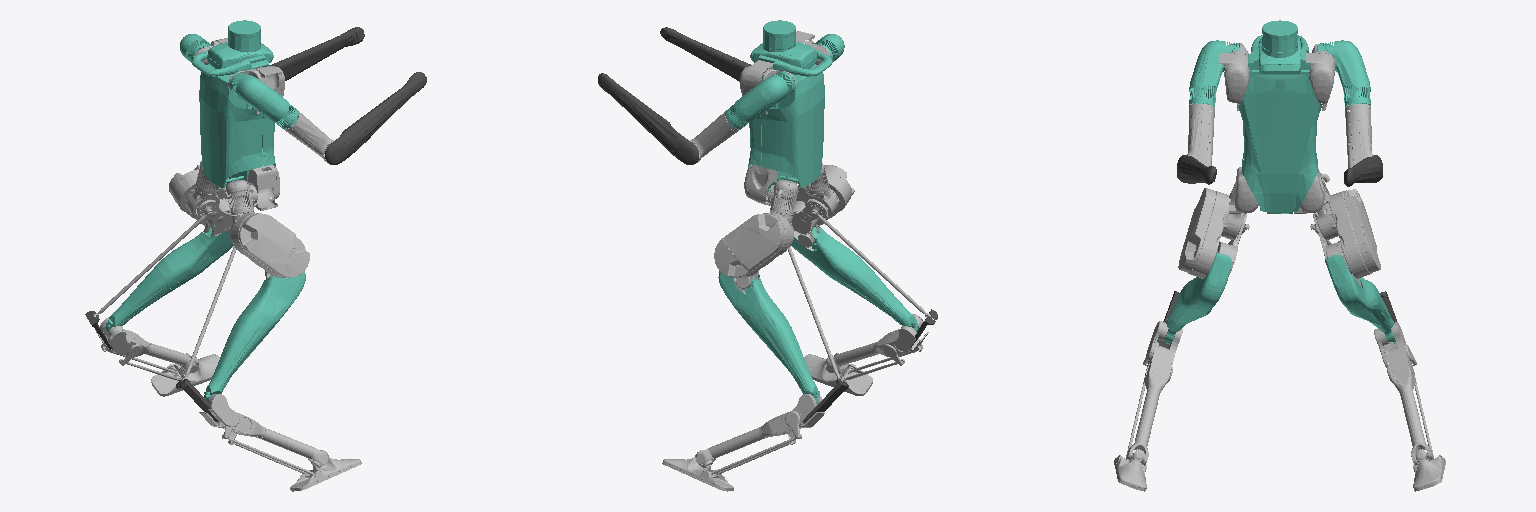
--- Render facts (derived) ---
3 views of the same robot in one strip: view 1: azimuth 30°, elevation 25°; view 2: azimuth 150°, elevation 25°; view 3: azimuth 270°, elevation 25° (orthographic).
Model digit-v3-springfixed with 43 links and 42 joints (38 revolute, 4 fixed), rooted at torso, posed every joint at zero.
Visible links, largest first — view 1: torso, right_shin, left_shin, right_hip_pitch, right_elbow, right_tarsus, right_shoulder_pitch, left_tarsus, left_elbow, left_hip_pitch, left_toe_roll, right_toe_roll (+5 smaller); view 2: torso, left_shin, right_shin, left_hip_pitch, left_elbow, left_tarsus, left_shoulder_pitch, right_tarsus, right_elbow, right_hip_pitch, right_toe_roll, left_toe_roll (+6 smaller); view 3: torso, left_hip_pitch, right_hip_pitch, left_tarsus, right_tarsus, right_shin, left_shin, left_shoulder_pitch, right_shoulder_pitch, left_shoulder_yaw, right_shoulder_yaw, right_toe_roll (+4 smaller).
Boxes of the visible links, left/top/right/bottom form: torso: left=191, top=20, right=284, bottom=210; right_shin: left=204, top=271, right=305, bottom=403; left_shin: left=106, top=225, right=233, bottom=332; right_hip_pitch: left=232, top=213, right=309, bottom=277; right_elbow: left=325, top=72, right=426, bottom=164; right_tarsus: left=199, top=394, right=327, bottom=463; right_shoulder_pitch: left=229, top=73, right=298, bottom=128; left_tarsus: left=96, top=317, right=197, bottom=372; left_elbow: left=271, top=27, right=364, bottom=80; left_hip_pitch: left=169, top=165, right=231, bottom=230; left_toe_roll: left=151, top=354, right=219, bottom=396; right_toe_roll: left=290, top=450, right=361, bottom=491; torso: left=740, top=20, right=832, bottom=205; left_shin: left=718, top=271, right=819, bottom=404; right_shin: left=791, top=226, right=918, bottom=331; left_hip_pitch: left=714, top=213, right=791, bottom=277; left_elbow: left=598, top=73, right=698, bottom=164; left_tarsus: left=696, top=394, right=824, bottom=463; left_shoulder_pitch: left=725, top=72, right=794, bottom=128; right_tarsus: left=826, top=314, right=928, bottom=372; right_elbow: left=660, top=27, right=751, bottom=81; right_hip_pitch: left=793, top=165, right=854, bottom=230; right_toe_roll: left=804, top=354, right=872, bottom=395; left_toe_roll: left=662, top=450, right=733, bottom=491; torso: left=1219, top=20, right=1335, bottom=213; left_hip_pitch: left=1313, top=189, right=1380, bottom=278; right_hip_pitch: left=1178, top=188, right=1246, bottom=278; left_tarsus: left=1374, top=322, right=1433, bottom=464; right_tarsus: left=1126, top=321, right=1182, bottom=464; right_shin: left=1164, top=253, right=1231, bottom=344; left_shin: left=1325, top=255, right=1395, bottom=343; left_shoulder_pitch: left=1318, top=40, right=1370, bottom=107; right_shoulder_pitch: left=1189, top=40, right=1239, bottom=107; left_shoulder_yaw: left=1345, top=104, right=1373, bottom=167; right_shoulder_yaw: left=1187, top=104, right=1214, bottom=166; right_toe_roll: left=1114, top=449, right=1146, bottom=491.
Size in the robot's own frame: 0.9353 by 0.9376 by 1.4 metres.
Meshes: 20 distinct files referenced, 41 mesh visuals loaded (20 binary STL).

The robot description file, URDF, robot "digit-v3-springfixed":
<?xml version="1.0" encoding="utf-8"?>
<robot name="digit-v3-springfixed">
  <link name = "torso">
    <inertial>
      <origin rpy="0 0 0" xyz="0.001636612541 0.0002001180789 0.2593064529"/>
      <mass value="15.028392"/>
      <inertia ixx="0.3759052548" ixy="-8.776732849e-05" ixz="0.008498611229" iyy="0.3441935" iyz="6.621611757e-05" izz="0.09873232746"/>
    </inertial>
    <visual>
      <origin rpy="0 0 0" xyz="0 0 0"/>
      <geometry>
        <mesh filename="meshes/torso-v3/torso.stl"/>
      </geometry>
      <material name="scarlet">
        <color rgba="0.427 0.784 0.714 1"/>
      </material>
    </visual>
    <visual>
      <origin rpy="0 -1.5707963267948966192313216916398 0" xyz="-0.001 0.091 0"/>
      <geometry>
        <mesh filename="meshes/leg-v3/hip-roll-housing.stl"/>
      </geometry>
      <material name="light_grey">
        <color rgba="0.75 0.75 0.75 1"/>
      </material>
    </visual>
    <visual>
      <origin rpy="-0 -1.5707963267948966192313216916398 0" xyz="-0.001 0.12 0.4"/>
      <geometry>
        <mesh filename="meshes/arm-v3/link-0.stl"/>
      </geometry>
      <material name="light_grey">
        <color rgba="0.75 0.75 0.75 1"/>
      </material>
    </visual>
    <visual>
      <origin rpy="0 -1.5707963267948966192313216916398 0" xyz="-0.001 -0.091 0"/>
      <geometry>
        <mesh filename="meshes/leg-v3/hip-roll-housing.stl"/>
      </geometry>
      <material name="light_grey">
        <color rgba="0.75 0.75 0.75 1"/>
      </material>
    </visual>
    <visual>
      <origin rpy="0 -1.5707963267948966192313216916398 0" xyz="-0.001 -0.12 0.4"/>
      <geometry>
        <mesh filename="meshes/arm-v3/link-0.stl"/>
      </geometry>
      <material name="light_grey">
        <color rgba="0.75 0.75 0.75 1"/>
      </material>
    </visual>
    <collision>
      <origin rpy="0 0 0" xyz="0 0 0"/>
      <geometry>
        <mesh filename="meshes/torso-v3/torso.stl"/>
      </geometry>
    </collision>
    <collision>
      <origin rpy="0 -1.5707963267948966192313216916398 0" xyz="-0.001 0.091 0"/>
      <geometry>
        <mesh filename="meshes/leg-v3/hip-roll-housing.stl"/>
      </geometry>
    </collision>
    <collision>
      <origin rpy="-0.1745   -1.5707963267948966192313216916398         0" xyz="-0.001 0.12 0.4"/>
      <geometry>
        <mesh filename="meshes/arm-v3/link-0.stl"/>
      </geometry>
    </collision>
    <collision>
      <origin rpy="0 -1.5707963267948966192313216916398 0" xyz="-0.001 -0.091 0"/>
      <geometry>
        <mesh filename="meshes/leg-v3/hip-roll-housing.stl"/>
      </geometry>
    </collision>
    <collision>
      <origin rpy="0.1745   -1.5707963267948966192313216916398         0" xyz="-0.001 -0.12 0.4"/>
      <geometry>
        <mesh filename="meshes/arm-v3/link-0.stl"/>
      </geometry>
    </collision>
  </link>

  <!-- left leg -->
  <link name="left_hip_roll">
    <inertial>
      <origin rpy="0 0 0" xyz="-0.001967 0.000244 0.031435"/>
      <mass value="0.915088"/>
      <inertia ixx="0.001017" ixy="-3e-06" ixz="1.3e-05" iyy="0.001148" iyz="-4e-06" izz="0.000766"/>
    </inertial>
    <visual>
      <origin rpy="0 0 0" xyz="0 0 0"/>
      <geometry>
        <mesh filename="meshes/leg-v3/hip-yaw-housing.stl"/>
      </geometry>
      <material name="light_grey">
        <color rgba="0.75 0.75 0.75 1"/>
      </material>
    </visual>
    <collision>
      <origin rpy="0 0 0" xyz="0 0 0"/>
      <geometry>
        <mesh filename="meshes/leg-v3/hip-yaw-housing.stl"/>
      </geometry>
    </collision>
  </link>
  <link name="left_hip_yaw">
    <inertial>
      <origin rpy="0 0 0" xyz="1e-05 -0.001945 0.042033"/>
      <mass value="0.818753"/>
      <inertia ixx="0.001627" ixy="-1e-06" ixz="2e-06" iyy="0.001929" iyz="5.3e-05" izz="0.00077"/>
    </inertial>
    <visual>
      <origin rpy="0 0 0" xyz="0 0 0"/>
      <geometry>
        <mesh filename="meshes/leg-v3/hip-pitch-housing.stl"/>
      </geometry>
      <material name="light_grey">
        <color rgba="0.75 0.75 0.75 1"/>
      </material>
    </visual>
    <collision>
      <origin rpy="0 0 0" xyz="0 0 0"/>
      <geometry>
        <mesh filename="meshes/leg-v3/hip-pitch-housing.stl"/>
      </geometry>
    </collision>
  </link>
  <link name="left_hip_pitch">
    <inertial>
      <origin rpy="0 0 0" xyz="0.060537 0.000521 -0.038857"/>
      <mass value="6.244279"/>
      <inertia ixx="0.011533" ixy="-0.000171" ixz="0.000148" iyy="0.033345" iyz="0.000178" izz="0.033958"/>
    </inertial>
    <visual>
      <origin rpy="0 0 0" xyz="0 0 0"/>
      <geometry>
        <mesh filename="meshes/leg-v3/hip-pitch.stl"/>
      </geometry>
      <material name="scarlet">
        <color rgba="0.75 0.75 0.75 1"/>
      </material>
    </visual>
    <collision>
      <origin rpy="0 0 0" xyz="0 0 0"/>
      <geometry>
        <mesh filename="meshes/leg-v3/hip-pitch.stl"/>
      </geometry>
    </collision>
  </link>

  <!-- left knee close loop -->
  <link name="left_achilles_rod">
    <inertial>
      <origin rpy="0 0 0" xyz="0 0 0"/>
      <mass value="0."/>
      <inertia ixx="0" ixy="0" ixz="0" iyy="0" iyz="0" izz="0"/>
    </inertial>
    <visual>
      <origin rpy="0 0 0" xyz="0 0 0"/>
      <geometry>
        <mesh filename="meshes/leg-v3/achilles-rod.stl"/>
      </geometry>
      <material name="light_grey">
        <color rgba="0.75 0.75 0.75 1"/>
      </material>
    </visual>
    <collision>
      <origin rpy="0 0 0" xyz="0 0 0"/>
      <geometry>
        <mesh filename="meshes/leg-v3/achilles-rod.stl"/>
      </geometry>
    </collision>
  </link>
  <link name="left_ach2">
    <inertial>
      <origin rpy="0 0 0" xyz="0.2506 0 0"/>
      <mass value="0.178148"/>
      <inertia ixx="3e-06" ixy="0" ixz="0" iyy="0.004501" iyz="0" izz="0.004501"/>
    </inertial>
    <visual>
      <origin rpy="0 0 0" xyz="0 0 0"/>
      <geometry>
        <sphere radius = "0.0" />
      </geometry>
    </visual>
    <collision>
      <origin rpy="0 0 0" xyz="0 0 0"/>
      <geometry>
        <sphere radius = "0.0" />
      </geometry>
    </collision>
  </link>

  <link name="left_knee">
    <inertial>
      <origin rpy="0 0 0" xyz="0.045641 0.042154 0.001657"/>
      <mass value="1.227077"/>
      <inertia ixx="0.002643" ixy="-0.001832" ixz="6.6e-05" iyy="0.005098" iyz="4.5e-05" izz="0.007019"/>
    </inertial>
    <visual>
      <origin rpy="0 0 0" xyz="0 0 0"/>
      <geometry>
        <mesh filename="meshes/leg-v3/knee.stl"/>
      </geometry>
      <material name="light_grey">
        <color rgba="0.75 0.75 0.75 1"/>
      </material>
    </visual>
    <collision>
      <origin rpy="0 0 0" xyz="0 0 0"/>
      <geometry>
        <mesh filename="meshes/leg-v3/knee.stl"/>
      </geometry>
    </collision>
  </link>
  <link name="left_shin">
    <inertial>
      <origin rpy="0 0 0" xyz="0.174265 0.010265 0.00107"/>
      <mass value="0.895793"/>
      <inertia ixx="0.001128" ixy="0.001098" ixz="0.000196" iyy="0.022492" iyz="-3e-06" izz="0.022793"/>
    </inertial>
    <visual>
      <origin rpy="0 0 0" xyz="0 0 0"/>
      <geometry>
        <mesh filename="meshes/leg-v3/shin.stl"/>
      </geometry>
      <material name="scarlet">
        <color rgba="0.427 0.784 0.714 1"/>
      </material>
    </visual>
    <collision>
      <origin rpy="0 0 0" xyz="0 0 0"/>
      <geometry>
        <mesh filename="meshes/leg-v3/shin.stl"/>
      </geometry>
    </collision>
  </link>
  <link name="left_tarsus">
    <inertial>
      <origin rpy="0 0 0" xyz="0.100777 -0.029183 0.000678"/>
      <mass value="1.322865"/>
      <inertia ixx="0.000932" ixy="0.00061" ixz="0.000102" iyy="0.016409" iyz="9e-06" izz="0.016501"/>
    </inertial>
    <visual>
      <origin rpy="0 0 0" xyz="0 0 0"/>
      <geometry>
        <mesh filename="meshes/leg-v3/tarsus.stl"/>
      </geometry>
      <material name="light_grey">
        <color rgba="0.75 0.75 0.75 1"/>
      </material>
    </visual>
    <collision>
      <origin rpy="0 0 0" xyz="0 0 0"/>
      <geometry>
        <mesh filename="meshes/leg-v3/tarsus.stl"/>
      </geometry>
    </collision>
  </link>
  <link name="left_heel_spring">
    <inertial>
      <origin rpy="0 0 0" xyz="0.049086 0.004739 -4.5e-05"/>
      <mass value="0.230018"/>
      <inertia ixx="5.5e-05" ixy="1.5e-05" ixz="1e-06" iyy="0.00074" iyz="0" izz="0.000701"/>
    </inertial>
    <visual>
      <origin rpy="0 0 0" xyz="0 0 0"/>
      <geometry>
        <mesh filename="meshes/leg-v3/heel-spring.stl"/>
      </geometry>
      <material name="grey">
        <color rgba="0.35 0.35 0.35 1"/>
      </material>
    </visual>
    <collision>
      <origin rpy="0 0 0" xyz="0 0 0"/>
      <geometry>
        <mesh filename="meshes/leg-v3/heel-spring.stl"/>
      </geometry>
    </collision>
  </link>

  <!-- left toe close loop-->
  <link name="left_toe_A">
    <inertial>
      <origin rpy="0 0 0" xyz="0.005161 1e-06 -0.002248"/>
      <mass value="0.139557"/>
      <inertia ixx="2.9e-05" ixy="0" ixz="-4e-06" iyy="5.8e-05" iyz="0" izz="7.4e-05"/>
    </inertial>
    <visual>
      <origin rpy="0 0 0" xyz="0 0 0"/>
      <geometry>
        <mesh filename="meshes/leg-v3/toe-output.stl"/>
      </geometry>
      <material name="light_grey">
        <color rgba="0.75 0.75 0.75 1"/>
      </material>
    </visual>
    <collision>
      <origin rpy="0 0 0" xyz="0 0 0"/>
      <geometry>
        <mesh filename="meshes/leg-v3/toe-output.stl"/>
      </geometry>
    </collision>
  </link>
  <link name="left_toe_A_rod">
    <inertial>
      <origin rpy="0 0 0" xyz="0 0 0"/>
      <mass value="0."/>
      <inertia ixx="0" ixy="0" ixz="0" iyy="0" iyz="0" izz="0"/>
    </inertial>
    <visual>
      <origin rpy="0 0 0" xyz="0 0 0"/>
      <geometry>
        <mesh filename="meshes/leg-v3/toe-a-rod.stl"/>
      </geometry>
      <material name="light_grey">
        <color rgba="0.75 0.75 0.75 1"/>
      </material>
    </visual>
    <collision>
      <origin rpy="0 0 0" xyz="0 0 0"/>
      <geometry>
        <mesh filename="meshes/leg-v3/toe-a-rod.stl"/>
      </geometry>
    </collision>
  </link>
  <link name="left_A2">
    <inertial>
      <origin rpy="0 0 0" xyz="0.171071 0 0"/>
      <mass value="0.090983"/>
      <inertia ixx="1e-06" ixy="0" ixz="0" iyy="0.001182" iyz="0" izz="0.001182"/>
    </inertial>
    <visual>
      <origin rpy="0 0 0" xyz="0 0 0"/>
      <geometry>
        <sphere radius = "0.0" />
      </geometry>
    </visual>
    <collision>
      <origin rpy="0 0 0" xyz="0 0 0"/>
      <geometry>
        <sphere radius = "0.0" />
      </geometry>
    </collision>
  </link>
  <link name="left_toe_B">
    <inertial>
      <origin rpy="0 0 0" xyz="0.005161 1e-06 -0.002248"/>
      <mass value="0.139557"/>
      <inertia ixx="2.9e-05" ixy="0" ixz="-4e-06" iyy="5.8e-05" iyz="0" izz="7.4e-05"/>
    </inertial>
    <visual>
      <origin rpy="0 0 0" xyz="0 0 0"/>
      <geometry>
        <mesh filename="meshes/leg-v3/toe-output.stl"/>
      </geometry>
      <material name="light_grey">
        <color rgba="0.75 0.75 0.75 1"/>
      </material>
    </visual>
    <collision>
      <origin rpy="0 0 0" xyz="0 0 0"/>
      <geometry>
        <mesh filename="meshes/leg-v3/toe-output.stl"/>
      </geometry>
    </collision>
  </link>
  <link name="left_toe_B_rod">
    <inertial>
      <origin rpy="0 0 0" xyz="0 0 0"/>
      <mass value="0."/>
      <inertia ixx="0" ixy="0" ixz="0" iyy="0" iyz="0" izz="0"/>
    </inertial>
    <visual>
      <origin rpy="0 0 0" xyz="0 0 0"/>
      <geometry>
        <mesh filename="meshes/leg-v3/toe-b-rod.stl"/>
      </geometry>
      <material name="light_grey">
        <color rgba="0.75 0.75 0.75 1"/>
      </material>
    </visual>
    <collision>
      <origin rpy="0 0 0" xyz="0 0 0"/>
      <geometry>
        <mesh filename="meshes/leg-v3/toe-b-rod.stl"/>
      </geometry>
    </collision>
  </link>
  <link name="left_B2">
    <inertial>
      <origin rpy="0 0 0" xyz="0.142991 0 0"/>
      <mass value="0.079507"/>
      <inertia ixx="1e-06" ixy="0" ixz="0" iyy="0.000768" iyz="0" izz="0.000768"/>
    </inertial>
    <visual>
      <origin rpy="0 0 0" xyz="0 0 0"/>
      <geometry>
        <sphere radius = "0.0" />
      </geometry>
    </visual>
    <collision>
      <origin rpy="0 0 0" xyz="0 0 0"/>
      <geometry>
        <sphere radius = "0.0" />
      </geometry>
    </collision>
  </link>

  <link name="left_toe_pitch">
    <inertial>
      <origin rpy="0 0 0" xyz="-0.000141 2e-06 3e-06"/>
      <mass value="0.043881"/>
      <inertia ixx="5e-06" ixy="0" ixz="0" iyy="8e-06" iyz="0" izz="4e-06"/>
    </inertial>
    <visual>
      <origin rpy="0 0 0" xyz="0 0 0"/>
      <geometry>
        <mesh filename="meshes/leg-v3/toe-pitch.stl"/>
      </geometry>
    </visual>
    <collision>
      <origin rpy="0 0 0" xyz="0 0 0"/>
      <geometry>
        <mesh filename="meshes/leg-v3/toe-pitch.stl"/>
      </geometry>
      <material name="light_grey">
        <color rgba="0.75 0.75 0.75 1"/>
      </material>
    </collision>
  </link>
  <link name="left_toe_roll">
    <inertial>
      <origin rpy="0 0 0" xyz="9e-06 -0.028084 -0.023204"/>
      <mass value="0.531283"/>
      <inertia ixx="0.00187" ixy="0" ixz="0" iyy="0.001616" iyz="0.000566" izz="0.000843"/>
    </inertial>
    <visual>
      <origin rpy="0 0 0" xyz="0 0 0"/>
      <geometry>
        <mesh filename="meshes/leg-v3/toe-roll.stl"/>
      </geometry>
      <material name="light_grey">
        <color rgba="0.75 0.75 0.75 1"/>
      </material>
    </visual>
    <collision>
      <origin rpy="0 0 0" xyz="0 0 0"/>
      <geometry>
        <mesh filename="meshes/leg-v3/toe-roll.stl"/>
      </geometry>
    </collision>
  </link>

  <!-- left arm -->
  <link name="left_shoulder_roll">
    <inertial>
      <origin rpy="0 0 0" xyz="-0.000819 -0.003158 0.023405"/>
      <mass value="0.535396"/>
      <inertia ixx="0.000704" ixy="1.4e-05" ixz="1.2e-05" iyy="0.00075" iyz="3.5e-05" izz="0.000298"/>
    </inertial>
    <visual>
      <origin rpy="0         0   -0.2793" xyz="0 0 0"/>
      <geometry>
        <mesh filename="meshes/arm-v3/link-1.stl"/>
      </geometry>
      <material name="light_grey">
        <color rgba="0.75 0.75 0.75 1"/>
      </material>
    </visual>
    <collision>
      <origin rpy="0         0   -0.2793" xyz="0 0 0"/>
      <geometry>
        <mesh filename="meshes/arm-v3/link-1.stl"/>
      </geometry>
    </collision>
  </link>
  <link name="left_shoulder_pitch">
    <inertial>
      <origin rpy="0 0 0" xyz="-4.2e-05 -0.061882 -0.073788"/>
      <mass value="1.440357"/>
      <inertia ixx="0.006761" ixy="-6e-06" ixz="-3e-06" iyy="0.002087" iyz="-0.002046" izz="0.005778"/>
    </inertial>
    <visual>
      <origin rpy="0 0 0" xyz="0 0 0"/>
      <geometry>
        <mesh filename="meshes/arm-v3/link-2.stl"/>
      </geometry>
      <material name="scarlet">
        <color rgba="0.427 0.784 0.714 1"/>
      </material>
    </visual>
    <collision>
      <origin rpy="0 0 0" xyz="0 0 0"/>
      <geometry>
        <mesh filename="meshes/arm-v3/link-2.stl"/>
      </geometry>
    </collision>
  </link>
  <link name="left_shoulder_yaw">
    <inertial>
      <origin rpy="0 0 0" xyz="-3e-05 0.001937 0.11407"/>
      <mass value="1.065387"/>
      <inertia ixx="0.006967" ixy="-1e-06" ixz="-1e-06" iyy="0.007003" iyz="-1.5e-05" izz="0.000673"/>
    </inertial>
    <visual>
      <origin rpy="0 0 0" xyz="0 0 0"/>
      <geometry>
        <mesh filename="meshes/arm-v3/link-3.stl"/>
      </geometry>
      <material name="light_grey">
        <color rgba="0.75 0.75 0.75 1"/>
      </material>
    </visual>
    <collision>
      <origin rpy="0 0 0" xyz="0 0 0"/>
      <geometry>
        <mesh filename="meshes/arm-v3/link-3.stl"/>
      </geometry>
    </collision>
  </link>
  <link name="left_elbow">
    <inertial>
      <origin rpy="0 0 0" xyz="0.107996 0.000521 -0.017765"/>
      <mass value="0.550582"/>
      <inertia ixx="0.000476" ixy="-2.9e-05" ixz="0.001403" iyy="0.009564" iyz="9e-06" izz="0.009437"/>
    </inertial>
    <visual>
      <origin rpy="0 0 0" xyz="0 0 0"/>
      <geometry>
        <mesh filename="meshes/arm-v3/link-4.stl"/>
      </geometry>
      <material name="grey">
        <color rgba="0.35 0.35 0.35 1"/>
      </material>
    </visual>
    <collision>
      <origin rpy="0 0 0" xyz="0 0 0"/>
      <geometry>
        <mesh filename="meshes/arm-v3/link-4.stl"/>
      </geometry>
    </collision>
  </link>
  
  <!-- right leg -->
  <link name="right_hip_roll">
    <inertial>
      <origin rpy="0 0 0" xyz="-0.001967 -0.000244 0.031435"/>
      <mass value="0.915088"/>
      <inertia ixx="0.001017" ixy="3e-06" ixz="1.3e-05" iyy="0.001148" iyz="4e-06" izz="0.000766"/>
    </inertial>
    <visual>
      <origin rpy="0 0 0" xyz="0 0 0"/>
      <geometry>
        <mesh filename="meshes/leg-v3/hip-yaw-housing.stl" scale="1 1 1"/>
      </geometry>
      <material name="light_grey">
        <color rgba="0.75 0.75 0.75 1"/>
      </material>
    </visual>
    <collision>
      <origin rpy="0 0 0" xyz="0 0 0"/>
      <geometry>
        <mesh filename="meshes/leg-v3/hip-yaw-housing.stl" scale="1 1 1"/>
      </geometry>
    </collision>
  </link>
  <link name="right_hip_yaw">
    <inertial>
      <origin rpy="0 0 0" xyz="1e-05 0.001945 0.042033"/>
      <mass value="0.818753"/>
      <inertia ixx="0.001627" ixy="1e-06" ixz="2e-06" iyy="0.001929" iyz="-5.3e-05" izz="0.00077"/>
    </inertial>
    <visual>
      <origin rpy="0 0 3.1415926535897932384626433832795" xyz="0 0 0"/>
      <geometry>
        <mesh filename="meshes/leg-v3/hip-pitch-housing.stl" scale="1 1 1"/>
      </geometry>
      <material name="light_grey">
        <color rgba="0.75 0.75 0.75 1"/>
      </material>
    </visual>
    <collision>
      <origin rpy="0 0 0" xyz="0 0 0"/>
      <geometry>
        <mesh filename="meshes/leg-v3/hip-pitch-housing.stl" scale="1 1 1"/>
      </geometry>
    </collision>
  </link>
  <link name="right_hip_pitch">
    <inertial>
      <origin rpy="0 0 0" xyz="0.060537 -0.000521 -0.038857"/>
      <mass value="6.244279"/>
      <inertia ixx="0.011533" ixy="0.000171" ixz="0.000148" iyy="0.033345" iyz="-0.000178" izz="0.033958"/>
    </inertial>
    <visual>
      <origin rpy="0 0 0" xyz="0 0 0"/>
      <geometry>
        <mesh filename="meshes/leg-v3/hip-pitch.stl" scale="1 1 1"/>
      </geometry>
      <material name="scarlet">
        <color rgba="0.75 0.75 0.75 1"/>
      </material>
    </visual>
    <collision>
      <origin rpy="0 0 0" xyz="0 0 0"/>
      <geometry>
        <mesh filename="meshes/leg-v3/hip-pitch.stl" scale="1 1 1"/>
      </geometry>
    </collision>
  </link>

  <!-- right knee close loop -->
  <link name="right_achilles_rod">
    <inertial>
      <origin rpy="0 0 0" xyz="0 0 0"/>
      <mass value="0."/>
      <inertia ixx="0" ixy="0" ixz="0" iyy="0" iyz="0" izz="0"/>
    </inertial>
    <visual>
      <origin rpy="0 0 0" xyz="0 0 0"/>
      <geometry>
        <mesh filename="meshes/leg-v3/achilles-rod.stl" scale="1 1 1"/>
      </geometry>
      <material name="light_grey">
        <color rgba="0.75 0.75 0.75 1"/>
      </material>
    </visual>
    <collision>
      <origin rpy="0 0 0" xyz="0 0 0"/>
      <geometry>
        <mesh filename="meshes/leg-v3/achilles-rod.stl" scale="1 1 1"/>
      </geometry>
    </collision>
  </link>
  <link name="right_ach2">
    <inertial>
      <origin rpy="0 0 0" xyz="0.2506 0 0"/>
      <mass value="0.178148"/>
      <inertia ixx="3e-06" ixy="0" ixz="0" iyy="0.004501" iyz="0" izz="0.004501"/>
    </inertial>
    <visual>
      <origin rpy="0 0 0" xyz="0 0 0"/>
      <geometry>
        <sphere radius = "0.0" />
      </geometry>
    </visual>
    <collision>
      <origin rpy="0 0 0" xyz="0 0 0"/>
      <geometry>
        <sphere radius = "0.0" />
      </geometry>
    </collision>
  </link>

  <link name="right_knee">
    <inertial>
      <origin rpy="0 0 0" xyz="0.045641 -0.042154 0.001657"/>
      <mass value="1.227077"/>
      <inertia ixx="0.002643" ixy="0.001832" ixz="6.6e-05" iyy="0.005098" iyz="-4.5e-05" izz="0.007019"/>
    </inertial>
    <visual>
      <origin rpy="3.1415926535897932384626433832795 0 0" xyz="0 0 0"/>
      <geometry>
        <mesh filename="meshes/leg-v3/knee.stl" scale="1 1 1"/>
      </geometry>
      <material name="light_grey">
        <color rgba="0.75 0.75 0.75 1"/>
      </material>
    </visual>
    <collision>
      <origin rpy="0 0 0" xyz="0 0 0"/>
      <geometry>
        <mesh filename="meshes/leg-v3/knee.stl" scale="1 1 1"/>
      </geometry>
    </collision>
  </link>
  <link name="right_shin">
    <inertial>
      <origin rpy="0 0 0" xyz="0.174265 -0.010265 0.00107"/>
      <mass value="0.895793"/>
      <inertia ixx="0.001128" ixy="-0.001098" ixz="0.000196" iyy="0.022492" iyz="3e-06" izz="0.022793"/>
    </inertial>
    <visual>
      <origin rpy="3.1415926535897932384626433832795 0 0" xyz="0 0 0"/>
      <geometry>
        <mesh filename="meshes/leg-v3/shin.stl" scale="1 1 1"/>
      </geometry>
      <material name="scarlet">
        <color rgba="0.427 0.784 0.714 1"/>
      </material>
    </visual>
    <collision>
      <origin rpy="0 0 0" xyz="0 0 0"/>
      <geometry>
        <mesh filename="meshes/leg-v3/shin.stl" scale="1 1 1"/>
      </geometry>
    </collision>
  </link>
  <link name="right_tarsus">
    <inertial>
      <origin rpy="0 0 0" xyz="0.100777 0.029183 0.000678"/>
      <mass value="1.322865"/>
      <inertia ixx="0.000932" ixy="-0.00061" ixz="0.000102" iyy="0.016409" iyz="-9e-06" izz="0.016501"/>
    </inertial>
    <visual>
      <origin rpy="3.1415926535897932384626433832795 0 0" xyz="0 0 0"/>
      <geometry>
        <mesh filename="meshes/leg-v3/tarsus.stl" scale="1 1 1"/>
      </geometry>
      <material name="light_grey">
        <color rgba="0.75 0.75 0.75 1"/>
      </material>
    </visual>
    <collision>
      <origin rpy="0 0 0" xyz="0 0 0"/>
      <geometry>
        <mesh filename="meshes/leg-v3/tarsus.stl" scale="1 1 1"/>
      </geometry>
    </collision>
  </link>
  <link name="right_heel_spring">
    <inertial>
      <origin rpy="0 0 0" xyz="0.049086 -0.004739 -4.5e-05"/>
      <mass value="0.230018"/>
      <inertia ixx="5.5e-05" ixy="-1.5e-05" ixz="1e-06" iyy="0.00074" iyz="0" izz="0.000701"/>
    </inertial>
    <visual>
      <origin rpy="0 0 0" xyz="0 0 0"/>
      <geometry>
        <mesh filename="meshes/leg-v3/heel-spring.stl" scale="1 1 1"/>
      </geometry>
      <material name="grey">
        <color rgba="0.35 0.35 0.35 1"/>
      </material>
    </visual>
    <collision>
      <origin rpy="0 0 0" xyz="0 0 0"/>
      <geometry>
        <mesh filename="meshes/leg-v3/heel-spring.stl" scale="1 1 1"/>
      </geometry>
    </collision>
  </link>

  <!-- right toe close loop -->
  <link name="right_toe_A">
    <inertial>
      <origin rpy="0 0 0" xyz="0.005161 -1e-06 -0.002248"/>
      <mass value="0.139557"/>
      <inertia ixx="2.9e-05" ixy="0" ixz="-4e-06" iyy="5.8e-05" iyz="0" izz="7.4e-05"/>
    </inertial>
    <visual>
      <origin rpy="0 0 0" xyz="0 0 0"/>
      <geometry>
        <mesh filename="meshes/leg-v3/toe-output.stl" scale="1 1 1"/>
      </geometry>
      <material name="light_grey">
        <color rgba="0.75 0.75 0.75 1"/>
      </material>
    </visual>
    <collision>
      <origin rpy="0 0 0" xyz="0 0 0"/>
      <geometry>
        <mesh filename="meshes/leg-v3/toe-output.stl" scale="1 1 1"/>
      </geometry>
    </collision>
  </link>
  <link name="right_toe_A_rod">
    <inertial>
      <origin rpy="0 0 0" xyz="0 0 0"/>
      <mass value="0."/>
      <inertia ixx="0" ixy="0" ixz="0" iyy="0" iyz="0" izz="0"/>
    </inertial>
    <visual>
      <origin rpy="0 0 0" xyz="0 0 0"/>
      <geometry>
        <mesh filename="meshes/leg-v3/toe-a-rod.stl" scale="1 1 1"/>
      </geometry>
      <material name="light_grey">
        <color rgba="0.75 0.75 0.75 1"/>
      </material>
    </visual>
    <collision>
      <origin rpy="0 0 0" xyz="0 0 0"/>
      <geometry>
        <mesh filename="meshes/leg-v3/toe-a-rod.stl" scale="1 1 1"/>
      </geometry>
    </collision>
  </link>
  <link name="right_A2">
    <inertial>
      <origin rpy="0 0 0" xyz="0.171071 0 0"/>
      <mass value="0.090983"/>
      <inertia ixx="1e-06" ixy="0" ixz="0" iyy="0.001182" iyz="0" izz="0.001182"/>
    </inertial>
    <visual>
      <origin rpy="0 0 0" xyz="0 0 0"/>
      <geometry>
        <sphere radius = "0.0" />
      </geometry>
    </visual>
    <collision>
      <origin rpy="0 0 0" xyz="0 0 0"/>
      <geometry>
        <sphere radius = "0.0" />
      </geometry>
    </collision>
  </link>
  <link name="right_toe_B">
    <inertial>
      <origin rpy="0 0 0" xyz="0.005161 -1e-06 -0.002248"/>
      <mass value="0.139557"/>
      <inertia ixx="2.9e-05" ixy="0" ixz="-4e-06" iyy="5.8e-05" iyz="0" izz="7.4e-05"/>
    </inertial>
    <visual>
      <origin rpy="0 0 0" xyz="0 0 0"/>
      <geometry>
        <mesh filename="meshes/leg-v3/toe-output.stl" scale="1 1 1"/>
      </geometry>
      <material name="light_grey">
        <color rgba="0.75 0.75 0.75 1"/>
      </material>
    </visual>
    <collision>
      <origin rpy="0 0 0" xyz="0 0 0"/>
      <geometry>
        <mesh filename="meshes/leg-v3/toe-output.stl" scale="1 1 1"/>
      </geometry>
    </collision>
  </link>
  <link name="right_toe_B_rod">
    <inertial>
      <origin rpy="0 0 0" xyz="0 0 0"/>
      <mass value="0."/>
      <inertia ixx="0" ixy="0" ixz="0" iyy="0" iyz="0" izz="0"/>
    </inertial>
    <visual>
      <origin rpy="0 0 0" xyz="0 0 0"/>
      <geometry>
        <mesh filename="meshes/leg-v3/toe-b-rod.stl" scale="1 1 1"/>
      </geometry>
      <material name="light_grey">
        <color rgba="0.75 0.75 0.75 1"/>
      </material>
    </visual>
    <collision>
      <origin rpy="0 0 0" xyz="0 0 0"/>
      <geometry>
        <mesh filename="meshes/leg-v3/toe-b-rod.stl" scale="1 1 1"/>
      </geometry>
    </collision>
  </link>
  <link name="right_B2">
    <inertial>
      <origin rpy="0 0 0" xyz="0.142991 0 0"/>
      <mass value="0.079507"/>
      <inertia ixx="1e-06" ixy="0" ixz="0" iyy="0.000768" iyz="0" izz="0.000768"/>
    </inertial>
    <visual>
      <origin rpy="0 0 0" xyz="0 0 0"/>
      <geometry>
        <sphere radius = "0.0" />
      </geometry>
    </visual>
    <collision>
      <origin rpy="0 0 0" xyz="0 0 0"/>
      <geometry>
        <sphere radius = "0.0" />
      </geometry>
    </collision>
  </link>

  <link name="right_toe_pitch">
    <inertial>
      <origin rpy="0 0 0" xyz="-0.000141 -2e-06 3e-06"/>
      <mass value="0.043881"/>
      <inertia ixx="5e-06" ixy="0" ixz="0" iyy="8e-06" iyz="0" izz="4e-06"/>
    </inertial>
    <visual>
      <origin rpy="0 0 0" xyz="0 0 0"/>
      <geometry>
        <mesh filename="meshes/leg-v3/toe-pitch.stl" scale="1 1 1"/>
      </geometry>
      <material name="light_grey">
        <color rgba="0.75 0.75 0.75 1"/>
      </material>
    </visual>
    <collision>
      <origin rpy="0 0 0" xyz="0 0 0"/>
      <geometry>
        <mesh filename="meshes/leg-v3/toe-pitch.stl" scale="1 1 1"/>
      </geometry>
    </collision>
  </link>
  <link name="right_toe_roll">
    <inertial>
      <origin rpy="0 0 0" xyz="9e-06 0.028084 -0.023204"/>
      <mass value="0.531283"/>
      <inertia ixx="0.00187" ixy="0" ixz="0" iyy="0.001616" iyz="-0.000566" izz="0.000843"/>
    </inertial>
    <visual>
      <origin rpy="0 0 3.1415926535897932384626433832795" xyz="0 0 0"/>
      <geometry>
        <mesh filename="meshes/leg-v3/toe-roll.stl" scale="1 1 1"/>
      </geometry>
      <material name="light_grey">
        <color rgba="0.75 0.75 0.75 1"/>
      </material>
    </visual>
    <collision>
      <origin rpy="0 0 0" xyz="0 0 0"/>
      <geometry>
        <mesh filename="meshes/leg-v3/toe-roll.stl" scale="1 1 1"/>
      </geometry>
    </collision>
  </link>

  <!-- right arm -->
  <link name="right_shoulder_roll">
    <inertial>
      <origin rpy="0 0 0" xyz="-0.000819 0.003158 0.023405"/>
      <mass value="0.535396"/>
      <inertia ixx="0.000704" ixy="-1.4e-05" ixz="1.2e-05" iyy="0.00075" iyz="-3.5e-05" izz="0.000298"/>
    </inertial>
    <visual>
      <origin rpy="0         0    3.1415926535897932384626433832795" xyz="0 0 0"/>
      <geometry>
        <mesh filename="meshes/arm-v3/link-1.stl" scale="1 1 1"/>
      </geometry>
      <material name="light_grey">
        <color rgba="0.75 0.75 0.75 1"/>
      </material>
    </visual>
    <collision>
      <origin rpy="0         0    0.2793" xyz="0 0 0"/>
      <geometry>
        <mesh filename="meshes/arm-v3/link-1.stl" scale="1 1 1"/>
      </geometry>
    </collision>
  </link>
  <link name="right_shoulder_pitch">
    <inertial>
      <origin rpy="0 0 0" xyz="-4.2e-05 0.061882 -0.073788"/>
      <mass value="1.440357"/>
      <inertia ixx="0.006761" ixy="6e-06" ixz="-3e-06" iyy="0.002087" iyz="0.002046" izz="0.005778"/>
    </inertial>
    <visual>
      <origin rpy="0 0 3.1415926535897932384626433832795" xyz="0 0 0"/>
      <geometry>
        <mesh filename="meshes/arm-v3/link-2.stl" scale="1 1 1"/>
      </geometry>
      <material name="scarlet">
        <color rgba="0.427 0.784 0.714 1"/>
      </material>
    </visual>
    <collision>
      <origin rpy="0 0 0" xyz="0 0 0"/>
      <geometry>
        <mesh filename="meshes/arm-v3/link-2.stl" scale="1 1 1"/>
      </geometry>
    </collision>
  </link>
  <link name="right_shoulder_yaw">
    <inertial>
      <origin rpy="0 0 0" xyz="-3e-05 -0.001937 0.11407"/>
      <mass value="1.065387"/>
      <inertia ixx="0.006967" ixy="1e-06" ixz="-1e-06" iyy="0.007003" iyz="1.5e-05" izz="0.000673"/>
    </inertial>
    <visual>
      <origin rpy="0 0 3.1415926535897932384626433832795" xyz="0 0 0"/>
      <geometry>
        <mesh filename="meshes/arm-v3/link-3.stl" scale="1 1 1"/>
      </geometry>
      <material name="light_grey">
        <color rgba="0.75 0.75 0.75 1"/>
      </material>
    </visual>
    <collision>
      <origin rpy="0 0 0" xyz="0 0 0"/>
      <geometry>
        <mesh filename="meshes/arm-v3/link-3.stl" scale="1 1 1"/>
      </geometry>
    </collision>
  </link>
  <link name="right_elbow">
    <inertial>
      <origin rpy="0 0 0" xyz="0.107996 -0.000521 -0.017765"/>
      <mass value="0.550582"/>
      <inertia ixx="0.000476" ixy="2.9e-05" ixz="0.001403" iyy="0.009564" iyz="-9e-06" izz="0.009437"/>
    </inertial>
    <visual>
      <origin rpy="0 0 0" xyz="0 0 0"/>
      <geometry>
        <mesh filename="meshes/arm-v3/link-4.stl" scale="1 1 1"/>
      </geometry>
      <material name="grey">
        <color rgba="0.35 0.35 0.35 1"/>
      </material>
    </visual>
    <collision>
      <origin rpy="0 0 0" xyz="0 0 0"/>
      <geometry>
        <mesh filename="meshes/arm-v3/link-4.stl" scale="1 1 1"/>
      </geometry>
    </collision>
  </link>

  <!-- left leg -->
  <joint name="left_hip_roll" type="revolute">
    <origin rpy="1.5707963267948966192313216916398 -1.1955515003397312323585310878116 -1.5707963267948966192313216916398" xyz="-0.001 0.091 0"/> 
    <axis xyz="0 0 1"/>
    <parent link="torso"/>
    <child link="left_hip_roll"/>
    <dynamics damping="1.0" friction="1.0"/>
    <limit effort="1.4" lower="-1.0472" upper="1.0472" velocity="12.15"/>
  </joint>
  <joint name="left_hip_yaw" type="revolute">
    <origin rpy="0   -1.5707963267948966192313216916398         0" xyz="-0.0505 0 0.044"/>
    <axis xyz="0 0 1"/>
    <parent link="left_hip_roll"/>
    <child link="left_hip_yaw"/>
    <dynamics damping="1.0" friction="1.0"/>
    <limit effort="1.4" lower="-0.698132" upper="0.698132" velocity="12.15"/>
  </joint>
  <joint name="left_hip_pitch" type="revolute">
    <origin rpy="-1.5707963267948966192313216916398 -0.78539816339739465522740147207514 3.1415926535897932384626433832795" xyz="0 0.004 0.068"/>
    <axis xyz="0 0 -1"/>
    <parent link="left_hip_yaw"/>
    <child link="left_hip_pitch"/>
    <dynamics damping="1.0" friction="0.5"/>
    <limit effort="12.5" lower="-1.0472" upper="1.5707963267948966192313216916398" velocity="8.5"/>
  </joint>

  <!-- left knee close loop -->
  <joint name="left_achilles_rod" type="revolute">
    <origin rpy="0.0087528908613780896652567520277444 0.07085157762907765000015558598534 -1.4355410054288866295024718056084" xyz="0 0 0.046"/>
    <axis xyz="0 0 1"/>
    <parent link="left_hip_pitch"/>
    <child link="left_achilles_rod"/>
    <dynamics damping="0.01" friction="0.0"/>
    <limit effort="12.5" lower="-1.7453" upper="1.7453" velocity="8.5085"/>
  </joint>
  <joint name="left_ach2" type="revolute">
    <origin rpy="0 0 0" xyz="0 0 0"/>
    <axis xyz="0 1 0"/>
    <parent link="left_achilles_rod"/>
    <child link="left_ach2"/>
    <dynamics damping="0.01" friction="0.0"/>
    <limit effort="0.9" lower="-1.7453" upper="1.7453" velocity="11.5"/>
  </joint>

  <joint name="left_knee" type="revolute">
    <origin rpy="0         0   -1.5707963267948966192313216916398" xyz="0.12 0 0.0045"/>
    <axis xyz="0 0 1"/>
    <parent link="left_hip_pitch"/>
    <child link="left_knee"/>
    <dynamics damping="1.0" friction="0.5"/>
    <limit effort="12.5" lower="-1.3963" upper="1.0193" velocity="8.5085"/>
  </joint>
  <joint name="left_shin" type="fixed">
    <origin rpy="0 0 0" xyz="0.060677 0.047406 0"/>
    <axis xyz="0 0 1"/>
    <parent link="left_knee"/>
    <child link="left_shin"/>
    <dynamics damping="0.0" friction="0.0"/>
    <limit effort="0" lower="-0.35" upper="0.35" velocity="10"/>
  </joint>
  <joint name="left_tarsus" type="revolute">
    <origin rpy="0         0    1.7976883650999471164766418951331" xyz="0.434759 0.02 0"/>
    <axis xyz="0 0 1"/>
    <parent link="left_shin"/>
    <child link="left_tarsus"/>
    <dynamics damping="0.0" friction="0.0"/>
    <limit effort="0" lower="-0.8779" upper="1.2497" velocity="20"/>
  </joint>
  <joint name="left_heel_spring" type="fixed">
    <origin rpy="-0.068907263191147760661436905138544 -0.03703539652360886280657581437481 2.7207176029176958209632175567094" xyz="-0.01766 -0.029456 0.00104"/>
    <axis xyz="0 0 1"/>
    <parent link="left_tarsus"/>
    <child link="left_heel_spring"/>
    <dynamics damping="0.0" friction="0.0"/>
    <limit effort="12" lower="-0.1047" upper="0.1047" velocity="11.5"/>
  </joint>

  <!-- left toe close loop -->
  <joint name="left_toe_A" type="revolute">
    <origin rpy="3.1415926535897932384626433832795 0 -1.5526449025733231046331184188602" xyz="0.059 -0.034 -0.0276"/>
    <axis xyz="0 0 1"/>
    <parent link="left_tarsus"/>
    <child link="left_toe_A"/>
    <dynamics damping="1.0" friction="1.0"/>
    <limit effort="0.9" lower="-0.8077" upper="0.7851" velocity="11.5"/>
  </joint>
  <joint name="left_toe_A_rod" type="revolute">
    <origin rpy="-0.037175987474526640819139089444434 0.0069420091856212517295032782271846 -1.5437619437662688515189302052022" xyz="0.057 0 -0.008"/>
    <axis xyz="0 0 1"/>
    <parent link="left_toe_A"/>
    <child link="left_toe_A_rod"/>
    <dynamics damping="0.01" friction="0.0"/>
    <limit effort="0.9" lower="-1.7453" upper="1.7453" velocity="11.5"/>
  </joint>
  <joint name="left_A2" type="revolute">
    <origin rpy="0 0 0" xyz="0 0 0"/>
    <axis xyz="0 1 0"/>
    <parent link="left_toe_A_rod"/>
    <child link="left_A2"/>
    <dynamics damping="0.01" friction="0.0"/>
    <limit effort="0.9" lower="-1.7453" upper="1.7453" velocity="11.5"/>
  </joint>
  <joint name="left_toe_B" type="revolute">
    <origin rpy="0         0   -1.5526446425200970402613620535703" xyz="0.111 -0.034 0.0276"/>
    <axis xyz="0 0 1"/>
    <parent link="left_tarsus"/>
    <child link="left_toe_B"/>
    <dynamics damping="1.0" friction="1.0"/>
    <limit effort="0.9" lower="-0.8010" upper="0.7950" velocity="11.5"/>
  </joint>
  <joint name="left_toe_B_rod" type="revolute">
    <origin rpy="-0.053844685552438438513878082858355 0.0022826832958013874852465363574083 1.5418663490001245364169335516635" xyz="0.057 0 -0.008"/>
    <axis xyz="0 0 1"/>
    <parent link="left_toe_B"/>
    <child link="left_toe_B_rod"/>
    <dynamics damping="0.01" friction="0.0"/>
    <limit effort="0.9" lower="-1.7453" upper="1.7453" velocity="11.5"/>
  </joint>
  <joint name="left_B2" type="revolute">
    <origin rpy="0 0 0" xyz="0 0 0"/>
    <axis xyz="0 1 0"/>
    <parent link="left_toe_B_rod"/>
    <child link="left_B2"/>
    <dynamics damping="0.01" friction="0.0"/>
    <limit effort="0.9" lower="-1.7453" upper="1.7453" velocity="11.5"/>
  </joint>

  <joint name="left_toe_pitch" type="revolute">
    <origin rpy="0         0    1.2522744638393012994725950193242" xyz="0.408 -0.04 0"/>
    <axis xyz="0 0 1"/>
    <parent link="left_tarsus"/>
    <child link="left_toe_pitch"/>
    <dynamics damping="0.0" friction="0.0"/>
    <limit effort="0.9" lower="-0.7679" upper="0.5934" velocity="11.5"/>
  </joint>
  <joint name="left_toe_roll" type="revolute">
    <origin rpy="0    1.5707963267948966192313216916398         0" xyz="0 0 0"/>
    <axis xyz="0 0 1"/>
    <parent link="left_toe_pitch"/>
    <child link="left_toe_roll"/>
    <dynamics damping="0.0" friction="0.0"/>
    <limit effort="0.9" lower="-0.6458" upper="0.5760" velocity="11.5"/>
  </joint>

  <!-- left arm -->
  <joint name="left_shoulder_roll" type="revolute">
    <origin rpy="-1.57079632679489661923 -1.3962633 1.57079632679489661923" xyz="-0.001 0.12 0.4"/>
    <axis xyz="0 0 1"/>
    <parent link="torso"/>
    <child link="left_shoulder_roll"/>
    <limit effort="1.4" lower="-1.309" upper="1.309" velocity="12.5"/>
  </joint>
  <joint name="left_shoulder_pitch" type="revolute">
    <origin rpy="1.57079632679489661923 0.785398163397 -0.2792527" xyz="-0.00317 -0.011055 0.0555"/>
    <axis xyz="0 0 -1"/>
    <parent link="left_shoulder_roll"/>
    <child link="left_shoulder_pitch"/>
    <limit effort="1.4" lower="-2.5307" upper="2.5307" velocity="12.5"/>
  </joint>
  <joint name="left_shoulder_yaw" type="revolute">
    <origin rpy="1.57079632679489661923 0 0" xyz="0 -0.165 -0.1"/>
    <axis xyz="0 0 1"/>
    <parent link="left_shoulder_pitch"/>
    <child link="left_shoulder_yaw"/>
    <limit effort="1.4" lower="-1.7453" upper="1.7453" velocity="10"/>
  </joint>
  <joint name="left_elbow" type="revolute">
    <origin rpy="1.57079632679489661923 -0.3926991 0" xyz="0 -0.0385 0.185"/>
    <axis xyz="0 0 1"/>
    <parent link="left_shoulder_yaw"/>
    <child link="left_elbow"/>
    <limit effort="1.4" lower="-1.3526" upper="1.3526" velocity="12.5"/>
  </joint>

  <!-- right leg -->
  <joint name="right_hip_roll" type="revolute">
    <origin rpy="-1.5707963267948966192313216916398 -1.1955515003397312323585310878116 1.5707963267948966192313216916398" xyz="-0.001 -0.091 0"/>
    <axis xyz="0 0 1"/>
    <parent link="torso"/>
    <child link="right_hip_roll"/>
    <dynamics damping="1.0" friction="1.0"/>
    <limit effort="1.4" lower="-1.0472" upper="1.0472" velocity="12.15"/>
  </joint>
  <joint name="right_hip_yaw" type="revolute">
    <origin rpy="0   -1.5707963267948966192313216916398         0" xyz="-0.0505 0 0.044"/>
    <axis xyz="0 0 1"/>
    <parent link="right_hip_roll"/>
    <child link="right_hip_yaw"/>
    <dynamics damping="1.0" friction="1.0"/>
    <limit effort="1.4" lower="-0.698132" upper="0.698132" velocity="12.15"/>
  </joint>
  <joint name="right_hip_pitch" type="revolute">
    <origin rpy="1.5707963267948966192313216916398 -0.78539855435120076165844693605322 3.1415926535897932384626433832795" xyz="0 -0.004 0.068"/>
    <axis xyz="0 0 -1"/>
    <parent link="right_hip_yaw"/>
    <child link="right_hip_pitch"/>
    <dynamics damping="1.0" friction="0.5"/>
    <limit effort="12.5" lower="-1.5707963267948966192313216916398" upper="1.0472" velocity="8.5"/>
  </joint>

  <!-- right knee close loop -->
  <joint name="right_achilles_rod" type="revolute">
    <origin rpy="-0.0087523017375784415566863927438135 0.070851391807226243857442682383407 1.4355417226017064269427692124736" xyz="0 0 0.046"/>
    <axis xyz="0 0 1"/>
    <parent link="right_hip_pitch"/>
    <child link="right_achilles_rod"/>
    <dynamics damping="0.01" friction="0.0"/>
    <limit effort="12.5" lower="-1.7453" upper="1.7453" velocity="8.5085"/>
  </joint>
  <joint name="right_ach2" type="revolute">
    <origin rpy="0 0 0" xyz="0 0 0"/>
    <axis xyz="0 1 0"/>
    <parent link="right_achilles_rod"/>
    <child link="right_ach2"/>
    <dynamics damping="0.01" friction="0.0"/>
    <limit effort="0.9" lower="-1.7453" upper="1.7453" velocity="11.5"/>
  </joint>

  <joint name="right_knee" type="revolute">
    <origin rpy="0         0    1.5707963267948966192313216916398" xyz="0.12 0 0.0045"/>
    <axis xyz="0 0 1"/>
    <parent link="right_hip_pitch"/>
    <child link="right_knee"/>
    <dynamics damping="1.0" friction="0.5"/>
    <limit effort="12.5" lower="-1.0193" upper="1.3963" velocity="8.5085"/>
  </joint>
  <joint name="right_shin" type="fixed">
    <origin rpy="0 0 0" xyz="0.060677 -0.047406 0"/>
    <axis xyz="0 0 1"/>
    <parent link="right_knee"/>
    <child link="right_shin"/>
    <dynamics damping="0.0" friction="0.0"/>
    <limit effort="0" lower="-0.35" upper="0.35" velocity="10"/>
  </joint>
  <joint name="right_tarsus" type="revolute">
    <origin rpy="0         0   -1.7976883650999471164766418951331" xyz="0.434759 -0.02 0"/>
    <axis xyz="0 0 1"/>
    <parent link="right_shin"/>
    <child link="right_tarsus"/>
    <dynamics damping="0.0" friction="0.0"/>
    <limit effort="0" lower="-1.2497" upper="0.8779" velocity="20"/>
  </joint>
  <joint name="right_heel_spring" type="fixed">
    <origin rpy="0.068907849662554282454962617521232 -0.037035299439698535217679875586327 -2.7207170387858861104746210912708" xyz="-0.01766 0.029456 0.00104"/>
    <axis xyz="0 0 1"/>
    <parent link="right_tarsus"/>
    <child link="right_heel_spring"/>
    <dynamics damping="0.0" friction="0.0"/>
    <limit effort="12" lower="-0.1047" upper="0.1047" velocity="11.5"/>
  </joint> 

  <!-- right toe close loop -->
  <joint name="right_toe_A" type="revolute">
    <origin rpy="3.1415926535897932384626433832795 0 1.5526446425200970402613620535703" xyz="0.059 0.034 -0.0276"/>
    <axis xyz="0 0 1"/>
    <parent link="right_tarsus"/>
    <child link="right_toe_A"/>
    <dynamics damping="1.0" friction="1.0"/>
    <limit effort="0.9" lower="-0.7851" upper="0.8077" velocity="11.5"/>
  </joint>
  <joint name="right_toe_A_rod" type="revolute">
    <origin rpy="0.03717647899635967423392912678537 0.0069418384185932916277672610760874 1.5437611240201540852012840332463" xyz="0.057 0 -0.008"/>
    <axis xyz="0 0 1"/>
    <parent link="right_toe_A"/>
    <child link="right_toe_A_rod"/>
    <dynamics damping="0.01" friction="0.0"/>
    <limit effort="0.9" lower="-1.7453" upper="1.7453" velocity="11.5"/>
  </joint>
  <joint name="right_A2" type="revolute">
    <origin rpy="0 0 0" xyz="0 0 0"/>
    <axis xyz="0 1 0"/>
    <parent link="right_toe_A_rod"/>
    <child link="right_A2"/>
    <dynamics damping="0.01" friction="0.0"/>
    <limit effort="0.9" lower="-1.7453" upper="1.7453" velocity="11.5"/>
  </joint>
  <joint name="right_toe_B" type="revolute">
    <origin rpy="0         0    1.5526446425200970402613620535703" xyz="0.111 0.034 0.0276"/>
    <axis xyz="0 0 1"/>
    <parent link="right_tarsus"/>
    <child link="right_toe_B"/>
    <dynamics damping="1.0" friction="1.0"/>
    <limit effort="0.9" lower="-0.7950" upper="0.8010" velocity="11.5"/>
  </joint>
  <joint name="right_toe_B_rod" type="revolute">
    <origin rpy="0.053844685552438438513878082858355 0.0022826832958013874852465363574083 -1.5418663490001245364169335516635" xyz="0.057 0 -0.008"/>
    <axis xyz="0 0 1"/>
    <parent link="right_toe_B"/>
    <child link="right_toe_B_rod"/>
    <dynamics damping="0.01" friction="0.0"/>
    <limit effort="0.9" lower="-1.7453" upper="1.7453" velocity="11.5"/>
  </joint>
  <joint name="right_B2" type="revolute">
    <origin rpy="0 0 0" xyz="0 0 0"/>
    <axis xyz="0 1 0"/>
    <parent link="right_toe_B_rod"/>
    <child link="right_B2"/>
    <dynamics damping="0.01" friction="0.0"/>
    <limit effort="0.9" lower="-1.7453" upper="1.7453" velocity="11.5"/>
  </joint>

  <joint name="right_toe_pitch" type="revolute">
    <origin rpy="0         0   -1.2522744638393012994725950193242" xyz="0.408 0.04 0"/>
    <axis xyz="0 0 1"/>
    <parent link="right_tarsus"/>
    <child link="right_toe_pitch"/>
    <dynamics damping="0.0" friction="0.0"/>
    <limit effort="0.9" lower="-0.5934" upper="0.7679" velocity="11.5"/>
  </joint>
  <joint name="right_toe_roll" type="revolute">
    <origin rpy="0    1.5707963267948966192313216916398         0" xyz="0 0 0"/>
    <axis xyz="0 0 1"/>
    <parent link="right_toe_pitch"/>
    <child link="right_toe_roll"/>
    <dynamics damping="0.0" friction="0.0"/>
    <limit effort="0.9" lower="-0.5760" upper="0.6458" velocity="11.5"/>
  </joint>

  <!-- right arm -->
  <joint name="right_shoulder_roll" type="revolute">
    <origin rpy="1.5707963267948966192313216916398 -1.3962633 -1.5707963267948966192313216916398" xyz="-0.001 -0.12 0.4"/>
    <axis xyz="0 0 1"/>
    <parent link="torso"/>
    <child link="right_shoulder_roll"/>
    <dynamics damping="2.0" friction="2.0"/>
    <limit effort="1.4" lower="-1.309" upper="1.309" velocity="12.5"/>
  </joint>
  <joint name="right_shoulder_pitch" type="revolute">
    <origin rpy="-1.5707963267948966192313216916398 0.78539816339744830961566084581988 0.2792527" xyz="-0.00317 0.011055 0.0555"/>
    <axis xyz="0 0 -1"/>
    <parent link="right_shoulder_roll"/>
    <child link="right_shoulder_pitch"/>
    <dynamics damping="2.0" friction="2.0"/>
    <limit effort="1.4" lower="-2.5307" upper="2.5307" velocity="12.5"/>
  </joint>
  <joint name="right_shoulder_yaw" type="revolute">
    <origin rpy="-1.5707963267948966192313216916398         0         0" xyz="0 0.165 -0.1"/>
    <axis xyz="0 0 1"/>
    <parent link="right_shoulder_pitch"/>
    <child link="right_shoulder_yaw"/>
    <dynamics damping="2.0" friction="2.0"/>
    <limit effort="1.4" lower="-1.7453" upper="1.7453" velocity="10"/>
  </joint>
  <joint name="right_elbow" type="revolute">
    <origin rpy="-1.5707963267948966192313216916398 -0.3926991 0" xyz="0 0.0385 0.185"/>
    <axis xyz="0 0 1"/>
    <parent link="right_shoulder_yaw"/>
    <child link="right_elbow"/>
    <dynamics damping="2.0" friction="2.0"/>
    <limit effort="1.4" lower="-1.3526" upper="1.3526" velocity="12.5"/>
  </joint>
</robot>
